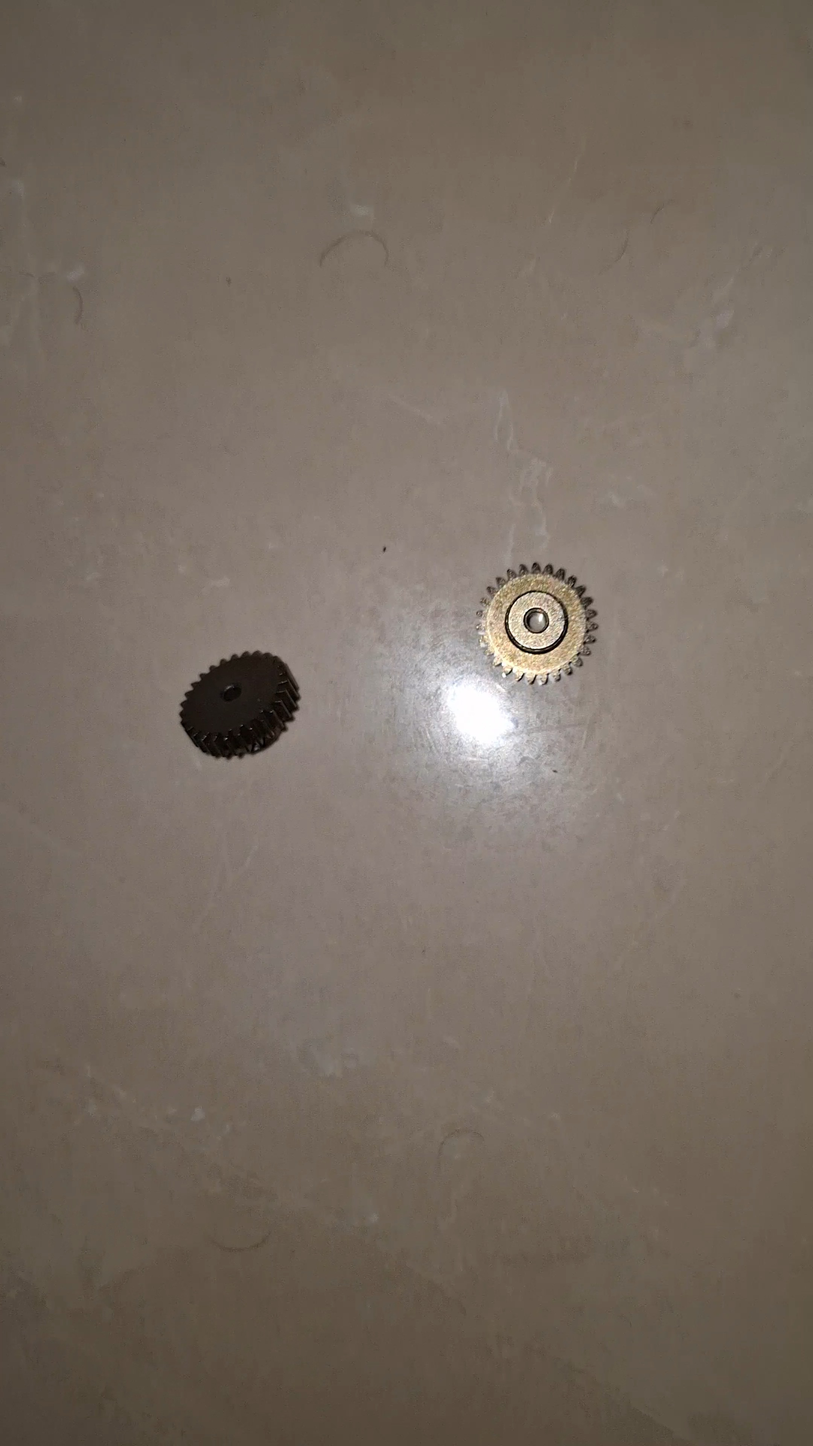spur gear: (478, 563, 596, 683), (180, 652, 298, 758)
